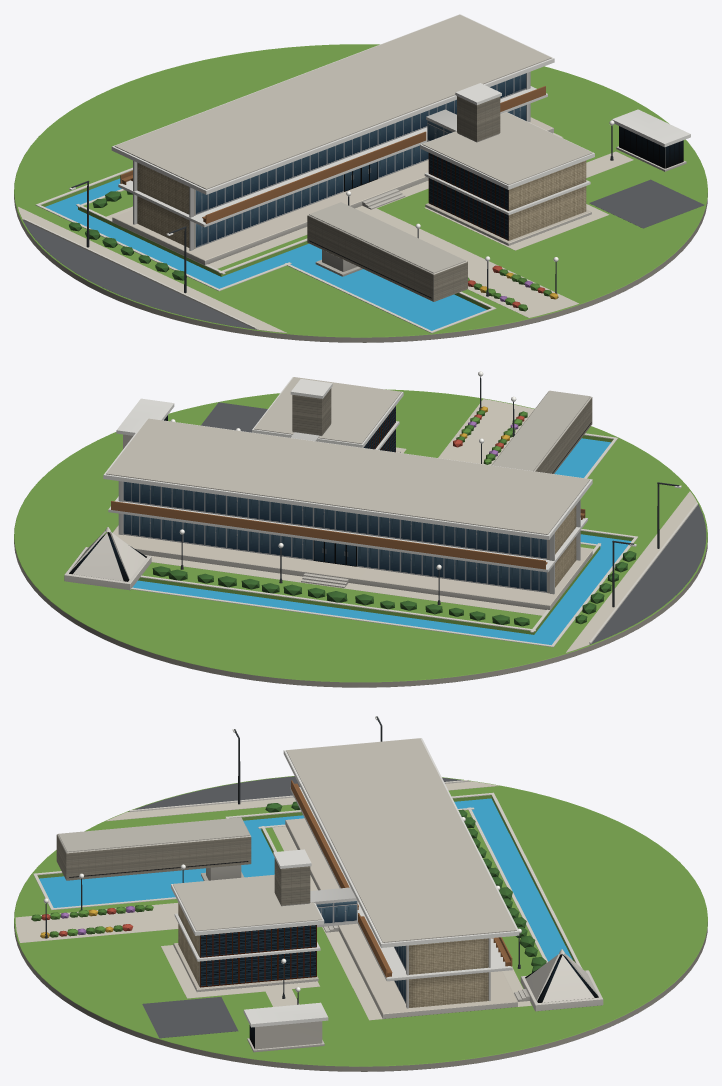
File: palacioAbolicao-pecas.glb
The picture shows the model from 3 angles, top to bottom: view 1: azimuth 30°, elevation 25°; view 2: azimuth 150°, elevation 25°; view 3: azimuth 270°, elevation 25°; orthographic projection.
Parts seen in each view (by area): view 1: Chao_Base, Palacio, Chao_Pisos, Anexo_Passarela, Mausoleu_Castelo_Branco, Agua_Fosso, Guarita, Jardim_Postes; view 2: Palacio, Chao_Base, Chao_Pisos, Anexo_Passarela, Agua_Fosso, Jardim_Postes, Mausoleu_Castelo_Branco, Capela, Guarita; view 3: Chao_Base, Palacio, Anexo_Passarela, Chao_Pisos, Mausoleu_Castelo_Branco, Agua_Fosso, Jardim_Postes, Capela, Guarita.
Part boxes in pixels (left/top/right/bottom): Chao_Base: left=14, top=44, right=707, bottom=342; Palacio: left=111, top=14, right=554, bottom=264; Chao_Pisos: left=18, top=133, right=704, bottom=333; Anexo_Passarela: left=420, top=83, right=594, bottom=245; Mausoleu_Castelo_Branco: left=307, top=202, right=467, bottom=301; Agua_Fosso: left=45, top=178, right=486, bottom=330; Guarita: left=612, top=109, right=690, bottom=171; Jardim_Postes: left=69, top=120, right=614, bottom=311; Palacio: left=103, top=418, right=592, bottom=609; Chao_Base: left=14, top=389, right=707, bottom=687; Chao_Pisos: left=131, top=399, right=706, bottom=652; Anexo_Passarela: left=252, top=377, right=403, bottom=452; Agua_Fosso: left=132, top=438, right=631, bottom=644; Jardim_Postes: left=152, top=371, right=681, bottom=626; Mausoleu_Castelo_Branco: left=491, top=390, right=592, bottom=473; Capela: left=64, top=527, right=151, bottom=590; Guarita: left=116, top=398, right=174, bottom=448; Chao_Base: left=14, top=776, right=707, bottom=1071; Palacio: left=283, top=738, right=519, bottom=1018; Anexo_Passarela: left=171, top=849, right=357, bottom=991; Chao_Pisos: left=15, top=776, right=582, bottom=1038; Mausoleu_Castelo_Branco: left=56, top=817, right=251, bottom=880; Agua_Fosso: left=39, top=798, right=572, bottom=961; Jardim_Postes: left=31, top=716, right=546, bottom=1004; Capela: left=513, top=949, right=603, bottom=1011; Guarita: left=243, top=1002, right=328, bottom=1052.
Bounding box in the file's own units: 66.79 × 11.5 × 66.79.
19 materials, 1 textured.
